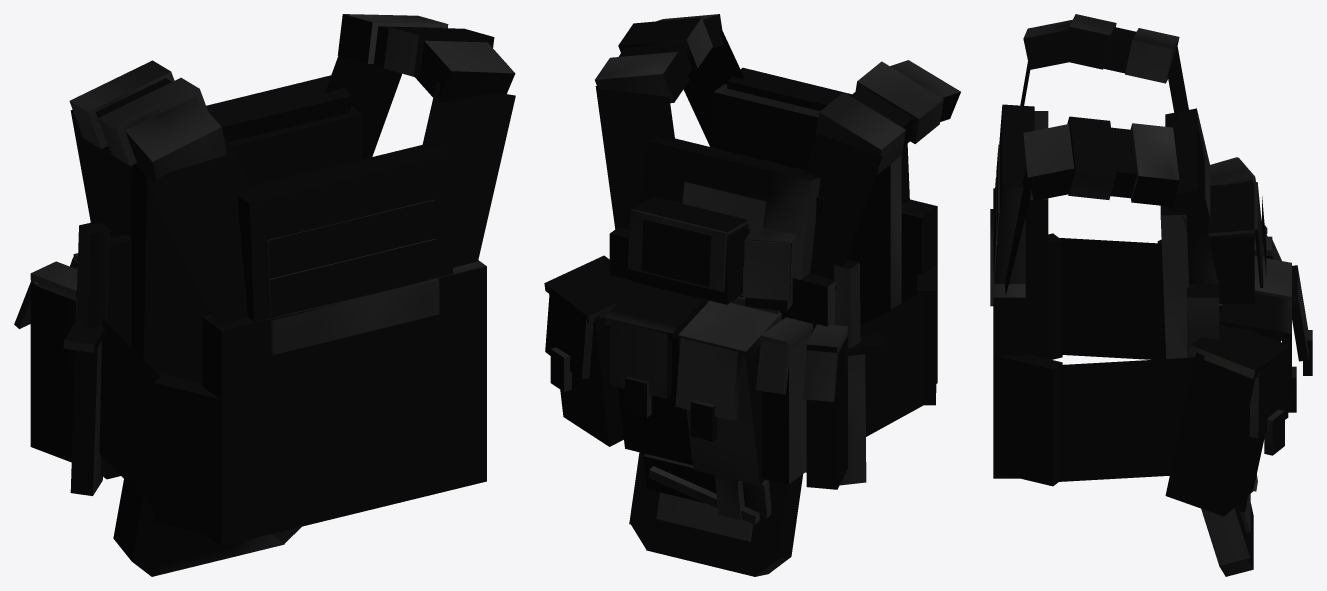
The model's file is cqb_kit.obj.
3 views of the same model, side by side, from view 1: azimuth 30°, elevation 25°; view 2: azimuth 150°, elevation 25°; view 3: azimuth 270°, elevation 25° (orthographic). The views are drawn at different scales.
Parts seen in each view (by area): view 1: mesh; view 2: mesh; view 3: mesh.
Boxes of the visible parts, x1,y1,x2,y2 form: mesh: (14, 14, 515, 576); mesh: (544, 14, 960, 576); mesh: (990, 14, 1312, 576).
Bounding box in the file's own units: 0.7153 × 1.02 × 0.625.
